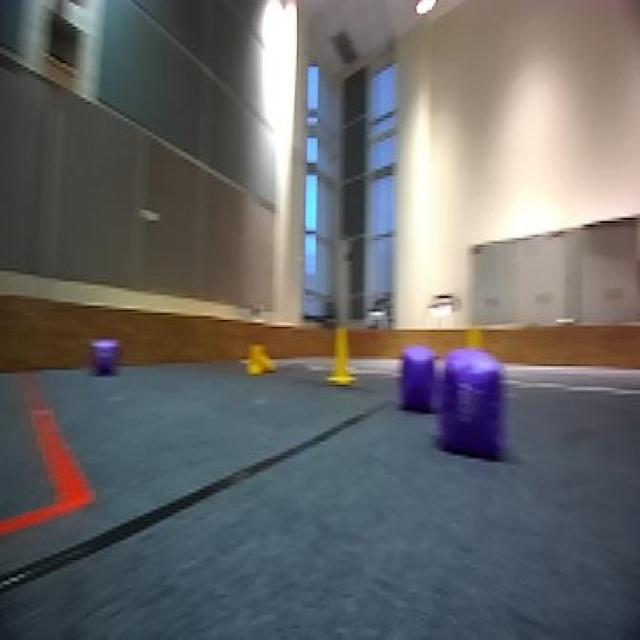frc_cone: (327, 324, 358, 386), (243, 340, 277, 380)
frc_cube: (436, 356, 506, 454), (401, 359, 433, 405), (89, 336, 118, 382)
